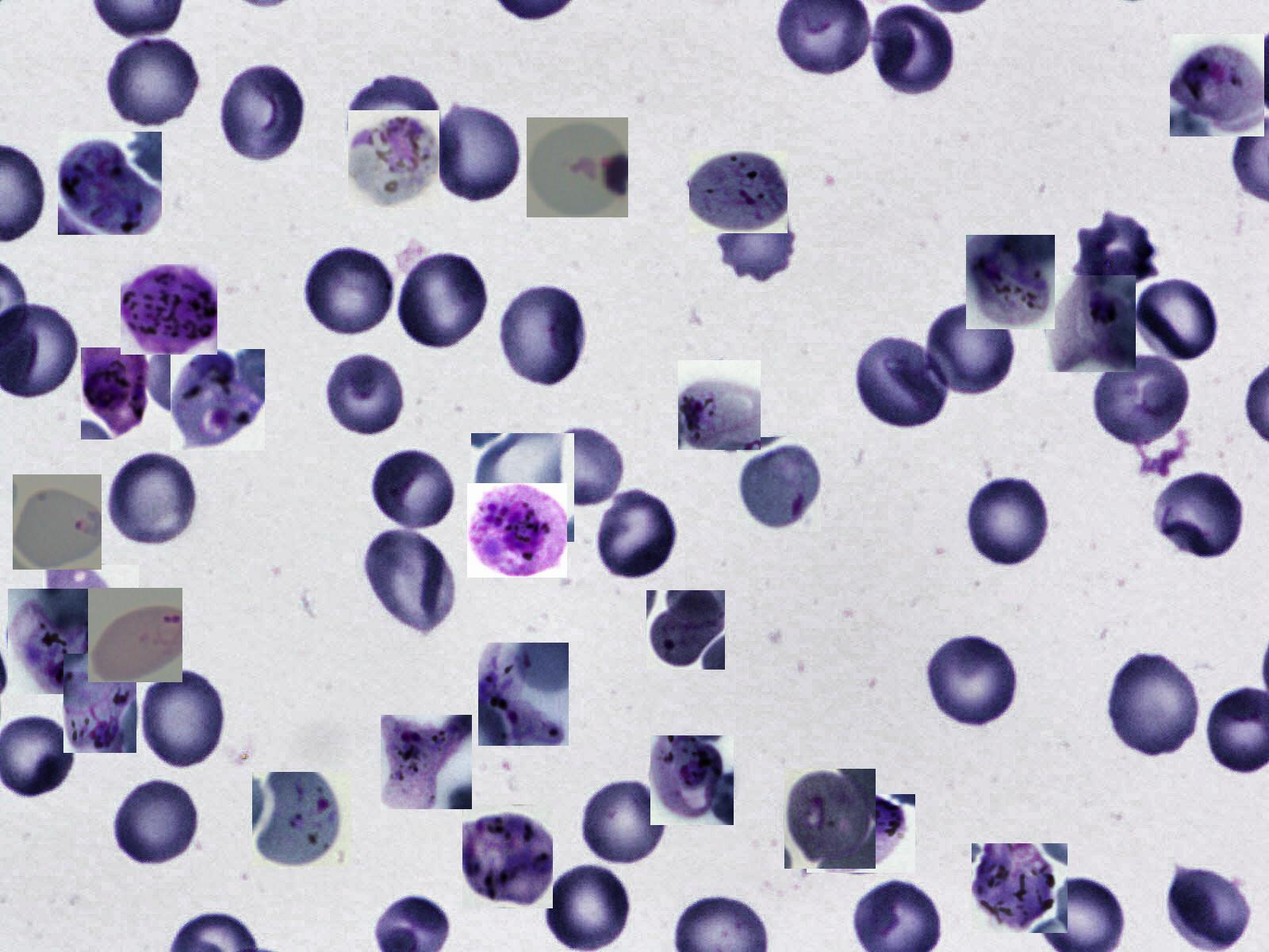Infected: (471, 433, 574, 542), (58, 132, 162, 235), (527, 117, 628, 217), (170, 349, 265, 451), (1170, 34, 1264, 136), (467, 483, 567, 578), (462, 804, 553, 908), (252, 772, 351, 867), (478, 643, 569, 746), (784, 769, 876, 869), (43, 565, 139, 660), (348, 110, 439, 208), (88, 588, 182, 682), (1046, 275, 1136, 372), (8, 589, 91, 694), (121, 265, 217, 355), (972, 843, 1068, 933), (381, 715, 472, 809), (13, 474, 102, 570), (807, 794, 915, 873), (81, 347, 171, 440), (966, 235, 1055, 329), (689, 151, 788, 233), (738, 437, 821, 532), (650, 736, 734, 825), (678, 360, 761, 450), (64, 654, 136, 753), (646, 590, 725, 670)
Uninfected: (1107, 646, 1201, 759), (359, 527, 455, 634), (393, 249, 492, 350), (496, 281, 589, 388), (343, 71, 444, 169), (1091, 351, 1193, 448), (301, 240, 399, 339), (429, 102, 522, 205), (105, 35, 205, 129), (105, 451, 200, 549), (140, 668, 231, 770), (217, 60, 307, 162), (926, 632, 1022, 727), (852, 336, 948, 427), (1153, 472, 1248, 561), (322, 347, 412, 438), (924, 305, 1015, 393), (870, 5, 956, 98), (575, 778, 667, 864), (965, 476, 1049, 570), (1161, 864, 1250, 952), (1072, 213, 1162, 299), (112, 780, 202, 865), (369, 447, 458, 532), (545, 865, 630, 952), (715, 194, 796, 285), (596, 489, 677, 578), (1130, 278, 1217, 360), (541, 429, 623, 507)
